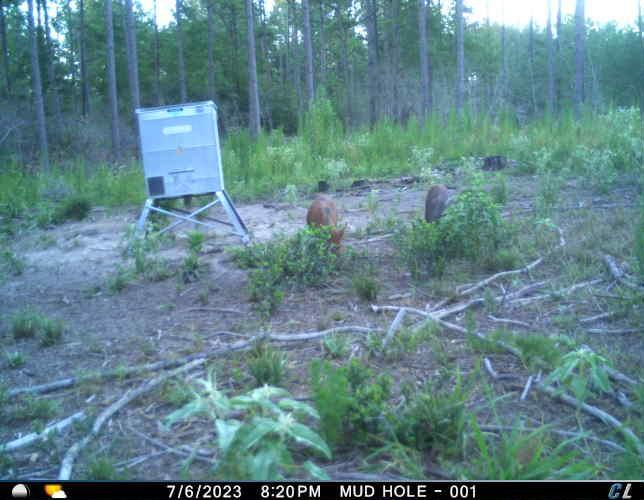Hog: (302, 192, 348, 254), (424, 181, 450, 228)
